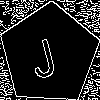J: (24, 29, 60, 80)
